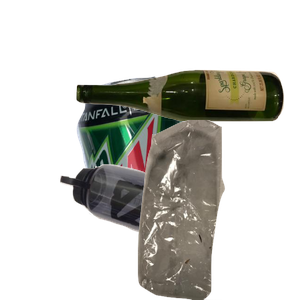glass: (74, 67, 300, 181)
metal: (74, 74, 257, 254)
plastic: (58, 162, 261, 300)
trash: (114, 120, 300, 300)
